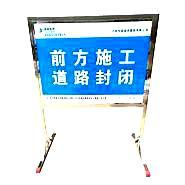sign: (36, 22, 148, 102)
